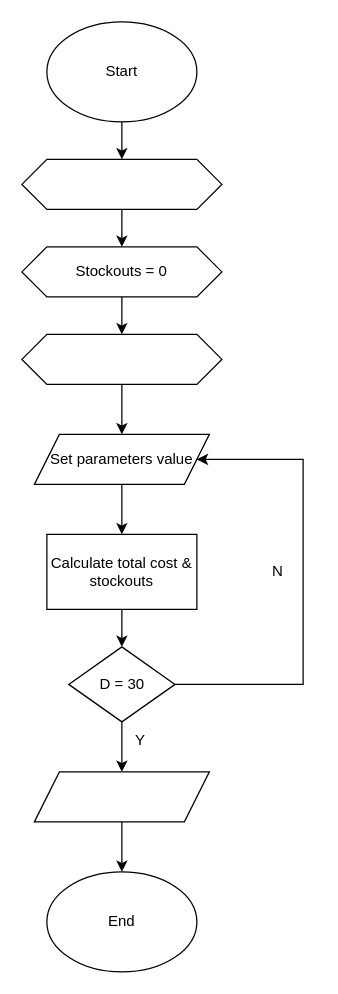
Image size: 338x994. Some labels were removed from this diagram. Each missing label, with the box of its shape:
Inventory = 50: (21, 158, 222, 209)
return total cost, stockouts for 30 days: (33, 771, 209, 822)
Total cost = 0: (21, 333, 222, 384)
